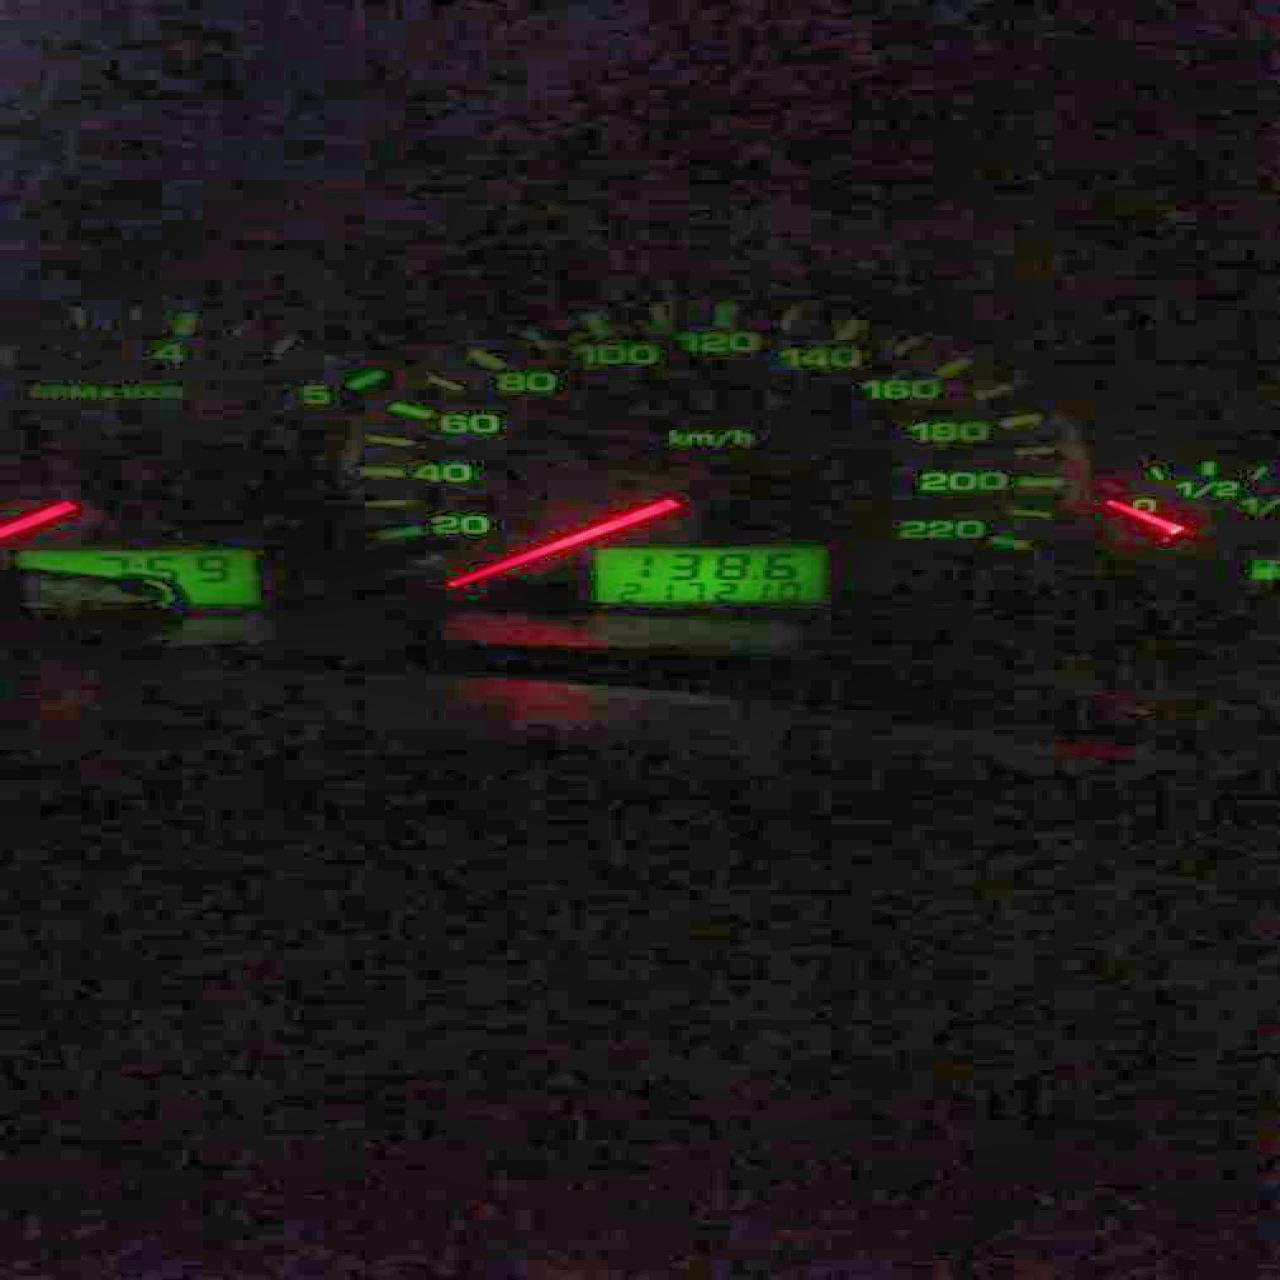0: (772, 580, 801, 601)
1: (639, 554, 652, 577), (757, 581, 770, 600), (662, 581, 674, 600)
2: (709, 581, 737, 601), (617, 581, 639, 601)
3: (667, 551, 700, 579)
6: (761, 551, 798, 579)
7: (685, 581, 704, 601)
8: (715, 551, 750, 579)
odometer: (591, 544, 829, 605)
